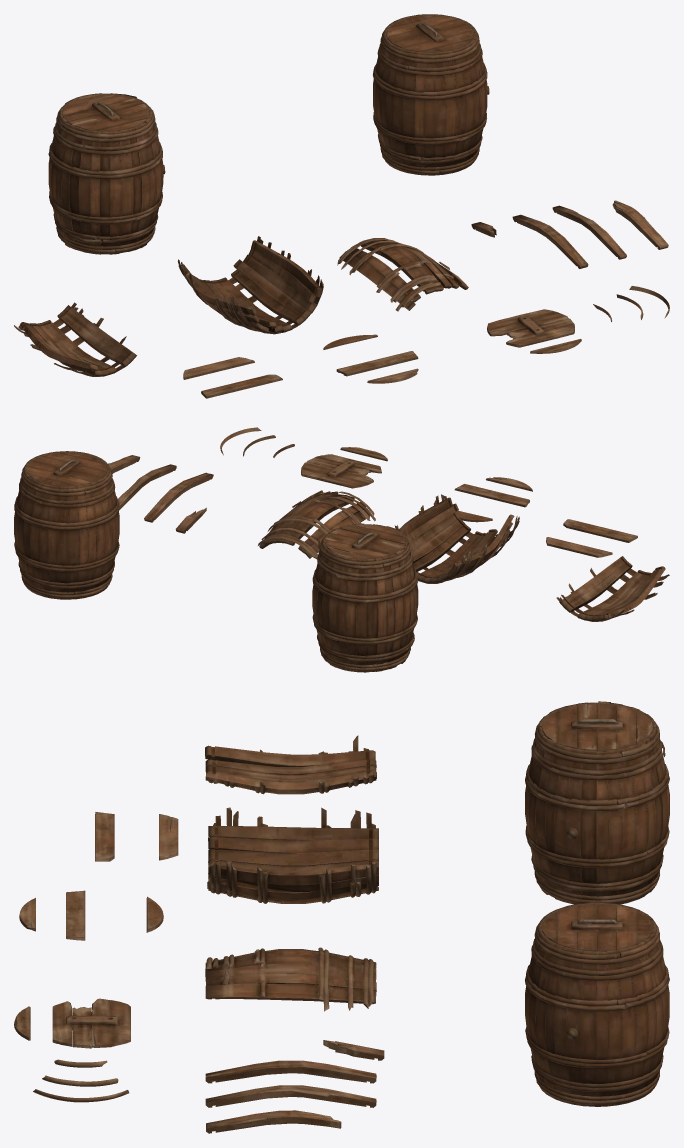
File: wooden_barrels_01.glb
3 renders of one model, top to bottom at view 1: azimuth 30°, elevation 25°; view 2: azimuth 150°, elevation 25°; view 3: azimuth 270°, elevation 25°, orthographic. The views are drawn at different scales.
Parts seen in each view (by area): view 1: wooden_barrels_01_barrel02, wooden_barrels_01_barrel01, wooden_barrels_01_piece01, wooden_barrels_01_piece03, wooden_barrels_01_piece02, wooden_barrels_01_piece08, wooden_barrels_01_piece04, wooden_barrels_01_piece05, wooden_barrels_01_piece06, wooden_barrels_01_piece11, wooden_barrels_01_piece14, wooden_barrels_01_piece13; view 2: wooden_barrels_01_barrel02, wooden_barrels_01_barrel01, wooden_barrels_01_piece01, wooden_barrels_01_piece03, wooden_barrels_01_piece02, wooden_barrels_01_piece08, wooden_barrels_01_piece04, wooden_barrels_01_piece14, wooden_barrels_01_piece11, wooden_barrels_01_piece05, wooden_barrels_01_piece13; view 3: wooden_barrels_01_barrel01, wooden_barrels_01_barrel02, wooden_barrels_01_piece01, wooden_barrels_01_piece03, wooden_barrels_01_piece02, wooden_barrels_01_piece08, wooden_barrels_01_piece04, wooden_barrels_01_piece05, wooden_barrels_01_piece06, wooden_barrels_01_piece11, wooden_barrels_01_piece14, wooden_barrels_01_piece13 (+1 smaller).
Boxes of the visible parts, <box> form: wooden_barrels_01_barrel02: <box>48,93,165,254</box>; wooden_barrels_01_barrel01: <box>373,14,489,175</box>; wooden_barrels_01_piece01: <box>177,236,323,334</box>; wooden_barrels_01_piece03: <box>337,238,468,311</box>; wooden_barrels_01_piece02: <box>14,302,136,376</box>; wooden_barrels_01_piece08: <box>487,309,574,347</box>; wooden_barrels_01_piece04: <box>512,214,588,268</box>; wooden_barrels_01_piece05: <box>552,205,626,259</box>; wooden_barrels_01_piece06: <box>612,200,668,249</box>; wooden_barrels_01_piece11: <box>336,351,418,376</box>; wooden_barrels_01_piece14: <box>201,374,282,398</box>; wooden_barrels_01_piece13: <box>183,357,254,379</box>; wooden_barrels_01_barrel02: <box>312,523,418,672</box>; wooden_barrels_01_barrel01: <box>14,451,119,599</box>; wooden_barrels_01_piece01: <box>394,494,519,583</box>; wooden_barrels_01_piece03: <box>258,490,375,559</box>; wooden_barrels_01_piece02: <box>556,556,669,621</box>; wooden_barrels_01_piece08: <box>301,454,381,488</box>; wooden_barrels_01_piece04: <box>144,472,213,522</box>; wooden_barrels_01_piece14: <box>563,519,637,542</box>; wooden_barrels_01_piece11: <box>454,484,529,507</box>; wooden_barrels_01_piece05: <box>118,464,176,510</box>; wooden_barrels_01_piece13: <box>546,537,612,557</box>; wooden_barrels_01_barrel01: <box>525,902,669,1106</box>; wooden_barrels_01_barrel02: <box>525,701,669,904</box>; wooden_barrels_01_piece01: <box>207,807,378,903</box>; wooden_barrels_01_piece03: <box>205,947,376,1011</box>; wooden_barrels_01_piece02: <box>205,735,376,794</box>; wooden_barrels_01_piece08: <box>52,998,130,1048</box>; wooden_barrels_01_piece04: <box>205,1060,376,1083</box>; wooden_barrels_01_piece05: <box>205,1085,376,1107</box>; wooden_barrels_01_piece06: <box>206,1110,341,1133</box>; wooden_barrels_01_piece11: <box>66,890,85,940</box>; wooden_barrels_01_piece14: <box>95,812,114,861</box>; wooden_barrels_01_piece13: <box>159,814,178,860</box>.
Size of the model in its own units: 4.44 by 0.954 by 3.34.
3 materials, 3 textured.
